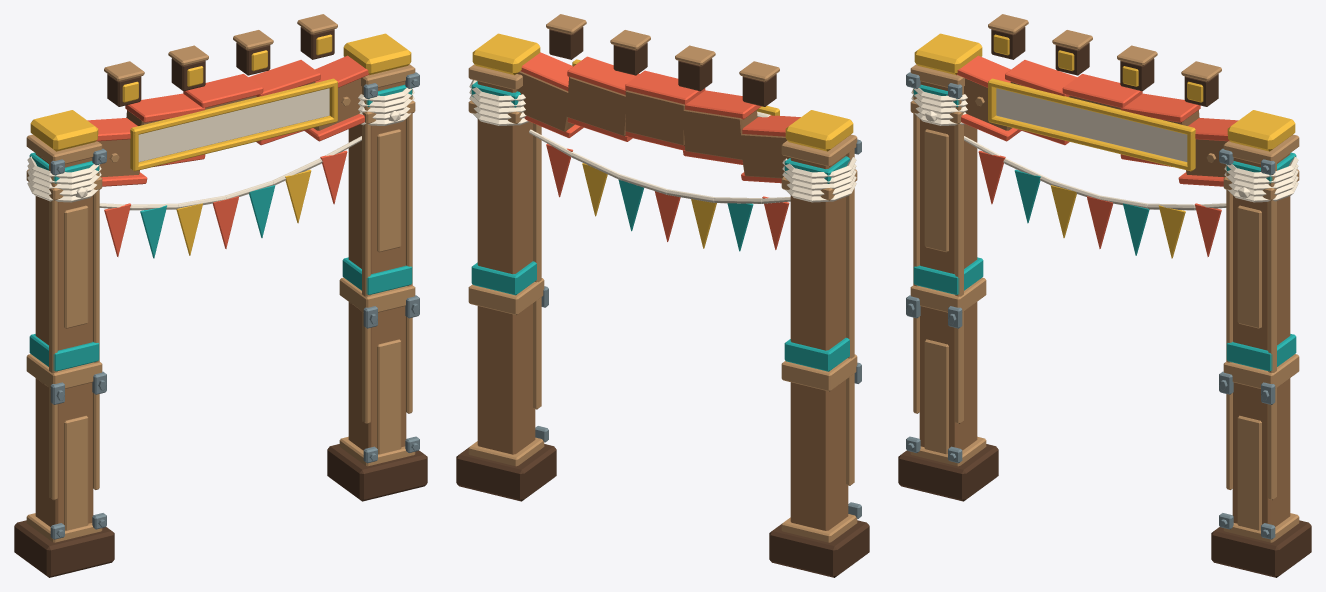
File: race-arch.glb
The picture shows the model from 3 angles, left to right: view 1: azimuth 30°, elevation 25°; view 2: azimuth 150°, elevation 25°; view 3: azimuth 330°, elevation 25°; orthographic projection.
Parts seen in each view (by area): view 1: Tall timber gate post.004, Tall timber gate post.005, Blank gate banner panel.002, Wide timber footing.004, Wide timber footing.005, Inset light wood post panel.011, Inset light wood post panel.009, Inset light wood post panel.010, Inset light wood post panel.008, Raised post edge batten.008, Raised post edge batten.010, Bevelled yellow cap.004 (+36 smaller); view 2: Tall timber gate post.004, Tall timber gate post.005, Wide timber footing.004, Wide timber footing.005, Curved crossbeam plank.011, Curved crossbeam plank.013, Curved crossbeam plank.012, Raised post edge batten.008, Raised post edge batten.010, Curved crossbeam plank.014, Bevelled yellow cap.004, Bevelled yellow cap.005 (+29 smaller); view 3: Tall timber gate post.005, Tall timber gate post.004, Blank gate banner panel.002, Wide timber footing.005, Wide timber footing.004, Inset light wood post panel.009, Inset light wood post panel.011, Inset light wood post panel.008, Inset light wood post panel.010, Raised post edge batten.011, Raised post edge batten.009, Bevelled yellow cap.005 (+36 smaller).
Part boxes in pixels (box(x1,y1,x2,y2)): Tall timber gate post.004: box(35, 153, 93, 526); Tall timber gate post.005: box(348, 81, 406, 450); Blank gate banner panel.002: box(138, 88, 329, 162); Wide timber footing.004: box(14, 520, 114, 577); Wide timber footing.005: box(327, 444, 427, 501); Inset light wood post panel.011: box(377, 129, 401, 252); Inset light wood post panel.009: box(64, 205, 88, 328); Inset light wood post panel.010: box(377, 339, 401, 454); Inset light wood post panel.008: box(64, 415, 88, 530); Raised post edge batten.008: box(49, 163, 57, 500); Raised post edge batten.010: box(362, 87, 370, 423); Bevelled yellow cap.004: box(30, 110, 98, 151); Tall timber gate post.004: box(790, 155, 848, 530); Tall timber gate post.005: box(477, 81, 535, 454); Wide timber footing.004: box(769, 520, 869, 577); Wide timber footing.005: box(456, 444, 556, 501); Curved crossbeam plank.011: box(682, 109, 757, 159); Curved crossbeam plank.013: box(566, 77, 627, 136); Curved crossbeam plank.012: box(625, 90, 684, 145); Raised post edge batten.008: box(846, 149, 854, 485); Raised post edge batten.010: box(533, 123, 541, 409); Curved crossbeam plank.014: box(517, 71, 574, 131); Bevelled yellow cap.004: box(785, 110, 853, 151); Bevelled yellow cap.005: box(472, 33, 540, 75); Tall timber gate post.005: box(1232, 153, 1290, 526); Tall timber gate post.004: box(919, 81, 977, 450); Blank gate banner panel.002: box(996, 88, 1187, 162); Wide timber footing.005: box(1211, 520, 1311, 577); Wide timber footing.004: box(898, 444, 998, 501); Inset light wood post panel.009: box(924, 129, 948, 252); Inset light wood post panel.011: box(1237, 205, 1261, 328); Inset light wood post panel.008: box(924, 339, 948, 454); Inset light wood post panel.010: box(1237, 415, 1261, 530); Raised post edge batten.011: box(1268, 163, 1276, 500); Raised post edge batten.009: box(955, 87, 963, 423); Bevelled yellow cap.005: box(1227, 110, 1295, 151).
Bounding box in the file's own units: 4.02 × 4.78 × 0.6767.
